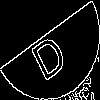D: (25, 24, 70, 83)
